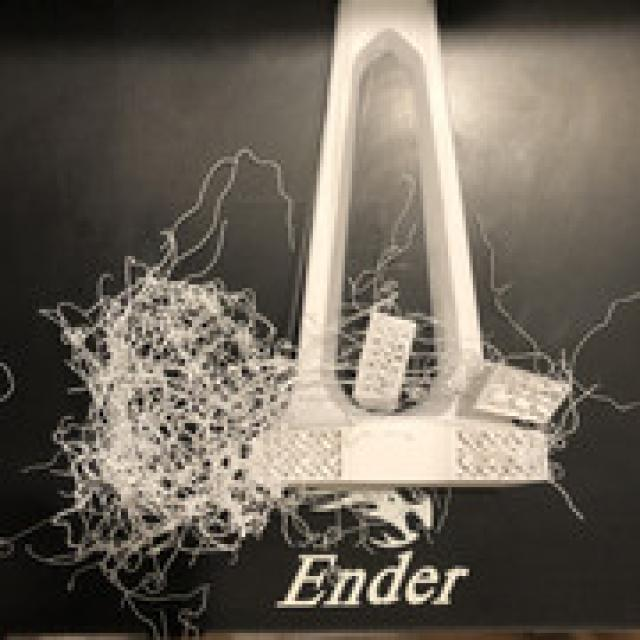spaghetti: (35, 167, 640, 640)
